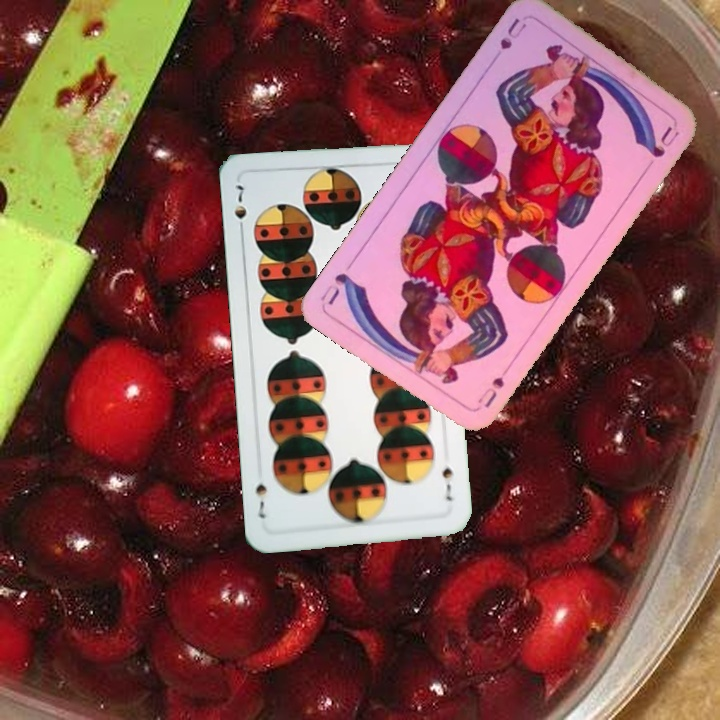S7: (230, 181, 249, 238), (438, 454, 455, 504)
SU: (486, 13, 530, 67), (473, 372, 507, 410)
